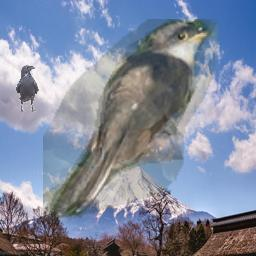Crow: (15, 65, 39, 112)
Cuckoo: (43, 19, 218, 223)
